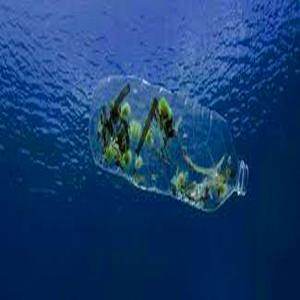Plastic: (88, 69, 256, 214)
